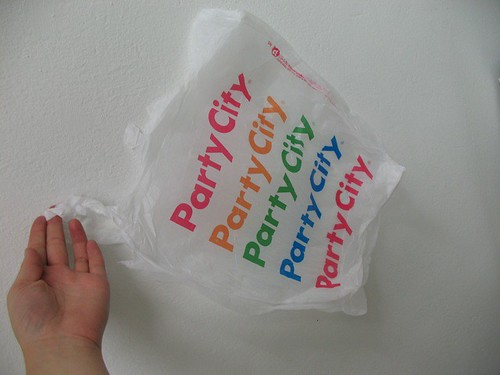plastic bag: (43, 7, 406, 316)
